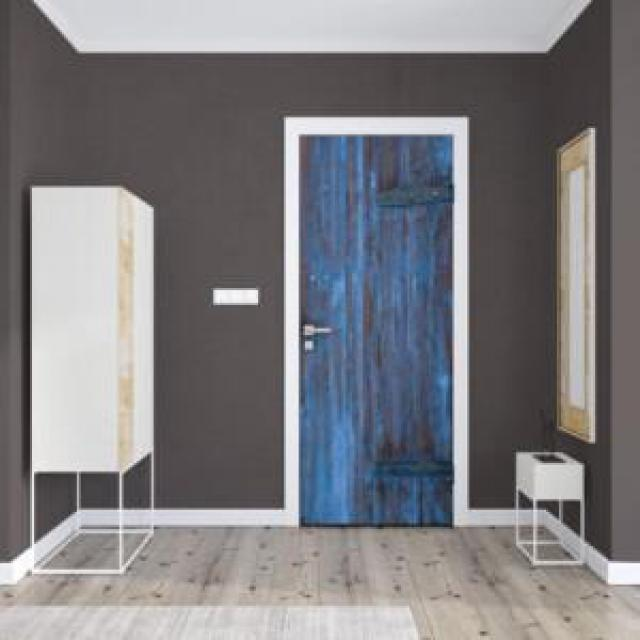close: (273, 103, 480, 546)
